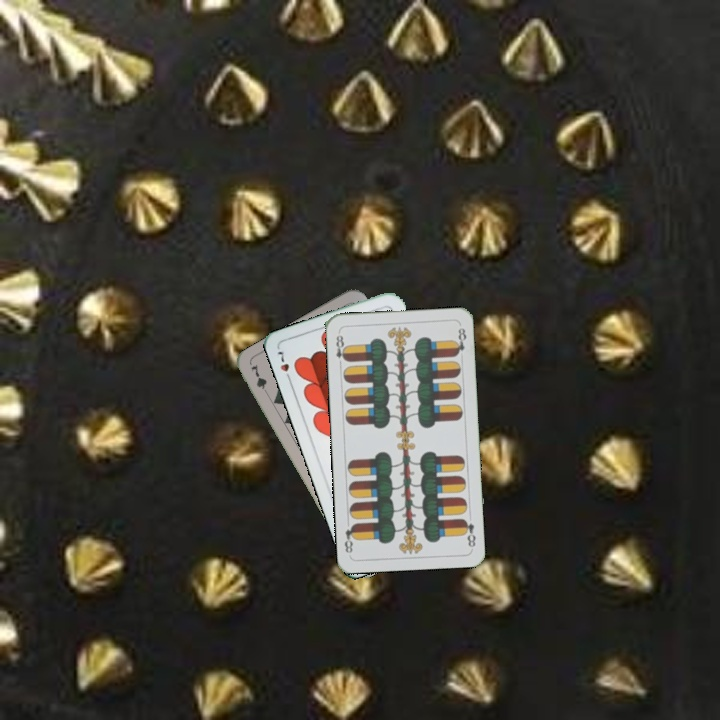E8: (332, 331, 350, 369), (459, 515, 478, 549)
G7: (246, 360, 272, 399)
H7: (273, 347, 294, 384)
